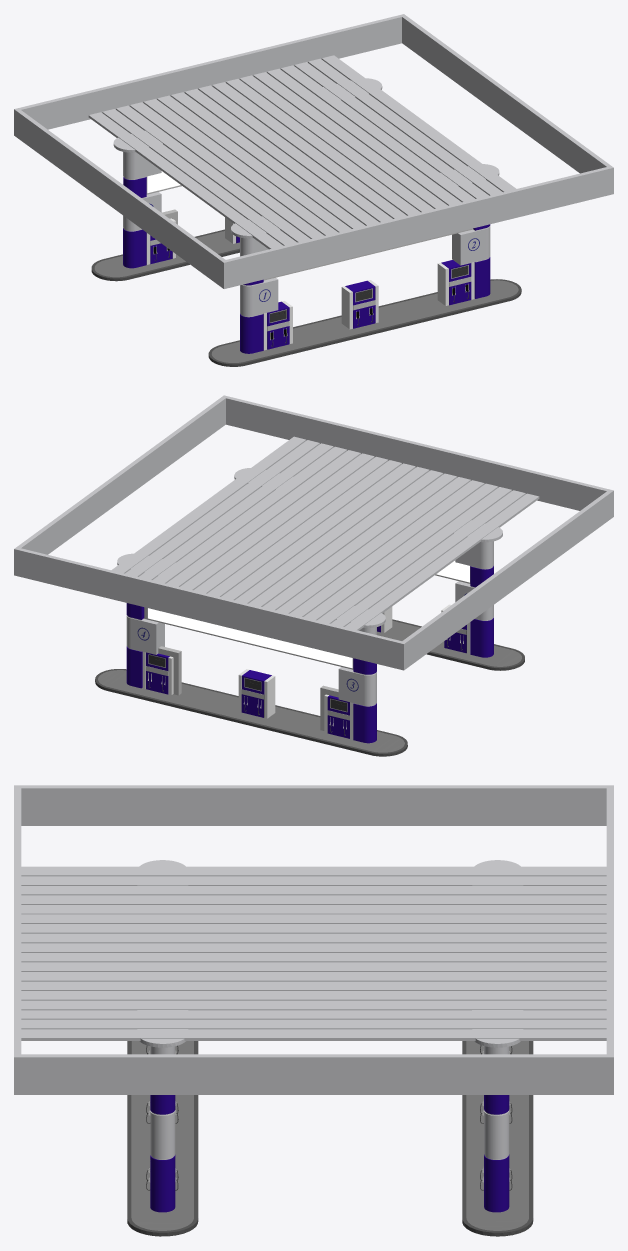
Rendered from gas_station_opt.glb.
The picture shows the model from 3 angles, top to bottom: view 1: azimuth 30°, elevation 25°; view 2: azimuth 150°, elevation 25°; view 3: azimuth 270°, elevation 25°; orthographic projection. The views are drawn at different scales.
Parts seen in each view (by area): view 1: Mat01, Mat02, Mat03, Mat00, Mat05, Mat04, Mat06; view 2: Mat01, Mat02, Mat03, Mat10_emissive, Mat00, Mat04, Mat05, Mat06; view 3: Mat01, Mat02, Mat00, Mat03.
Boxes of the visible parts, <box> form: Mat01: <box>14,14,613,316</box>; Mat02: <box>94,231,518,362</box>; Mat03: <box>123,177,490,353</box>; Mat00: <box>91,229,521,366</box>; Mat05: <box>146,217,474,350</box>; Mat04: <box>146,176,473,331</box>; Mat06: <box>236,236,468,348</box>; Mat01: <box>14,395,613,705</box>; Mat02: <box>98,620,521,752</box>; Mat03: <box>126,566,493,743</box>; Mat10_emissive: <box>148,560,469,668</box>; Mat00: <box>95,619,524,756</box>; Mat04: <box>144,566,470,730</box>; Mat05: <box>142,604,470,739</box>; Mat06: <box>149,630,466,717</box>; Mat01: <box>14,785,613,1159</box>; Mat02: <box>131,1041,528,1230</box>; Mat00: <box>127,1041,533,1236</box>; Mat03: <box>150,1095,509,1212</box>.
Bounding box in the file's own units: 39.15 × 14.08 × 36.51.
